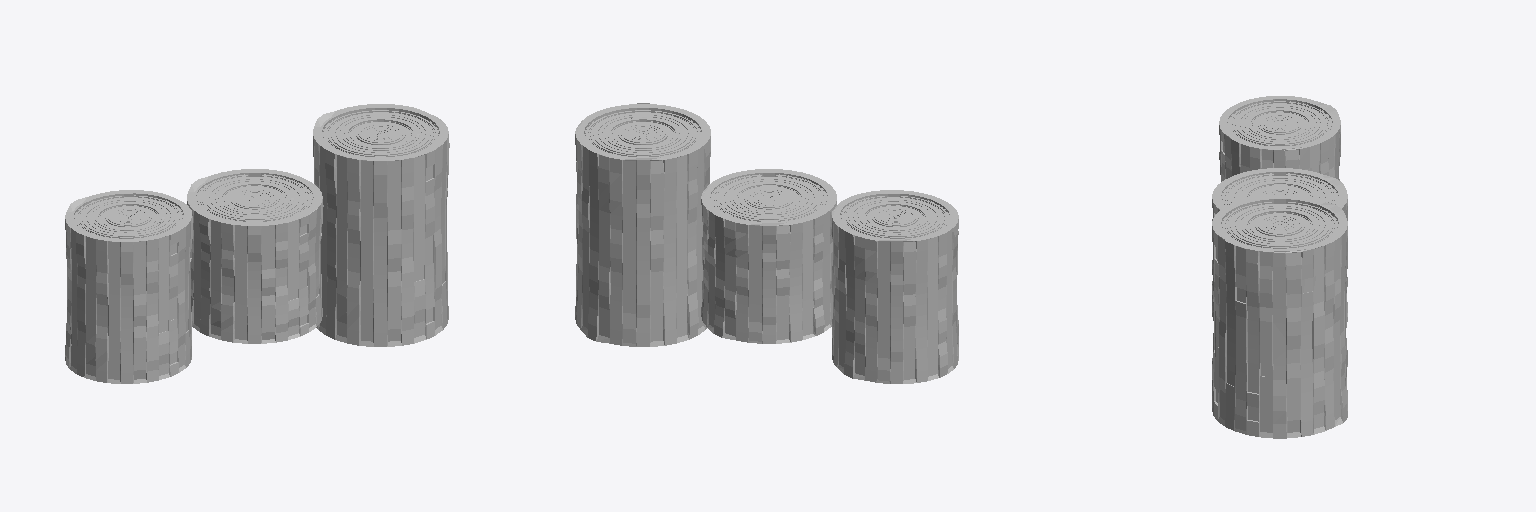
File: wood logs.obj
3 renders of one model, left to right at view 1: azimuth 30°, elevation 25°; view 2: azimuth 150°, elevation 25°; view 3: azimuth 270°, elevation 25°, orthographic.
Visible parts, largest first — view 1: Cylinder.002, Cylinder.005, Cylinder.004; view 2: Cylinder.002, Cylinder.005, Cylinder.004; view 3: Cylinder.002, Cylinder.005, Cylinder.004.
Part boxes in pixels (bbox=[...]): Cylinder.002: bbox=[313, 104, 449, 346]; Cylinder.005: bbox=[65, 190, 192, 383]; Cylinder.004: bbox=[187, 169, 323, 343]; Cylinder.002: bbox=[575, 103, 710, 346]; Cylinder.005: bbox=[832, 190, 958, 383]; Cylinder.004: bbox=[701, 169, 836, 343]; Cylinder.002: bbox=[1212, 195, 1347, 438]; Cylinder.005: bbox=[1219, 96, 1340, 181]; Cylinder.004: bbox=[1212, 168, 1347, 321].
Size of the model in its own units: 5.83 by 2.87 by 1.88.